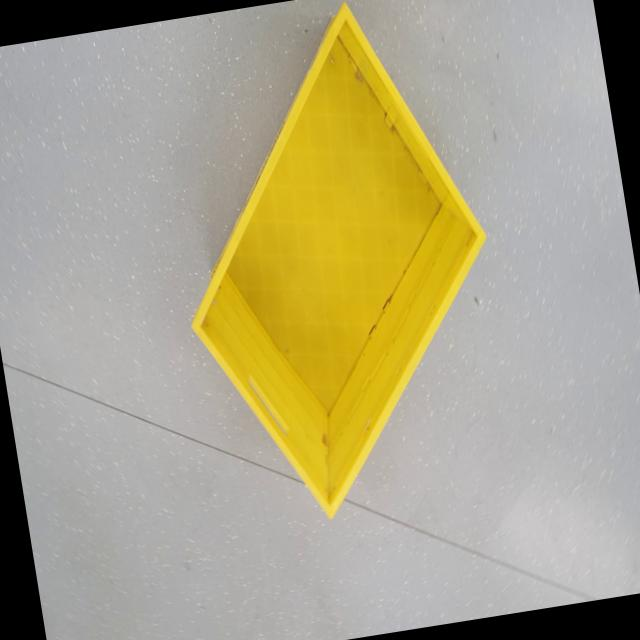box: (138, 0, 531, 546)
